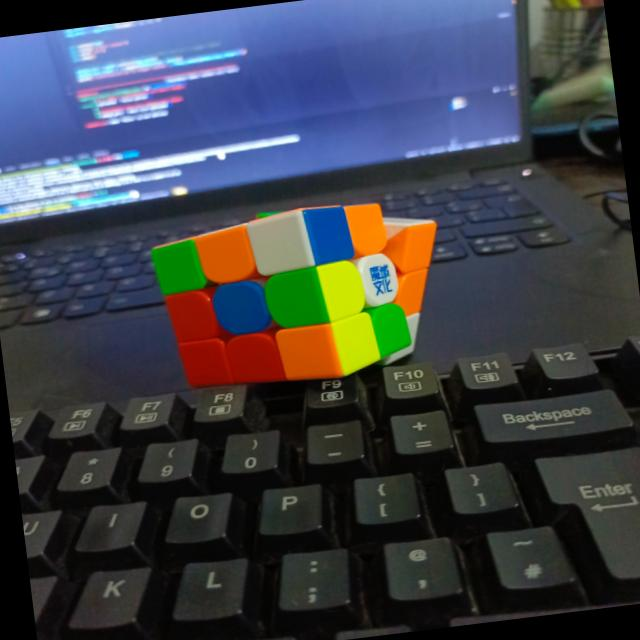rubik: (145, 190, 453, 398)
